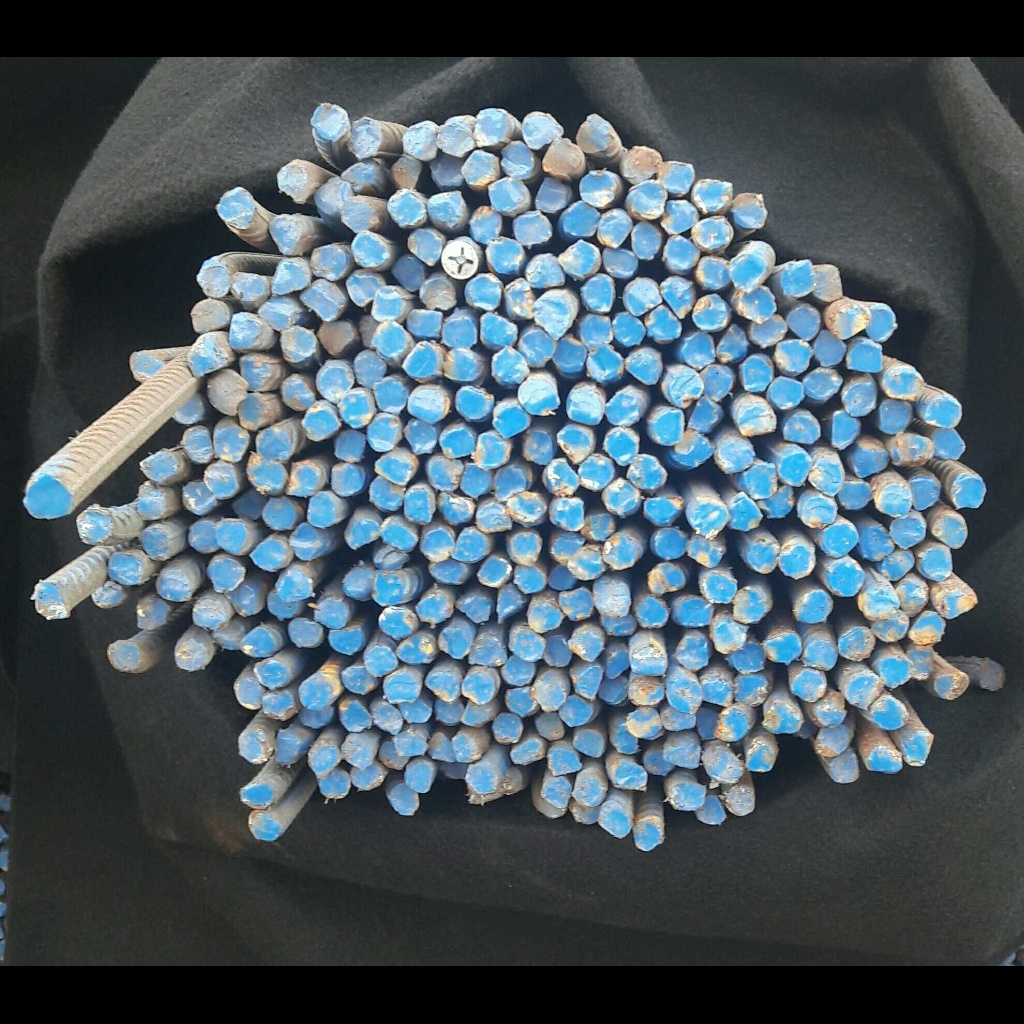dipstick: (24, 475, 71, 519), (207, 369, 249, 416), (301, 280, 347, 321), (663, 367, 704, 408), (316, 360, 354, 403), (216, 187, 255, 228), (664, 364, 702, 406), (189, 336, 228, 376), (623, 277, 662, 317), (533, 297, 574, 335), (212, 419, 249, 461), (542, 139, 584, 176), (247, 456, 286, 495), (522, 112, 561, 151), (490, 177, 530, 215), (829, 300, 869, 338), (271, 257, 310, 295), (575, 113, 613, 152), (692, 294, 731, 332), (518, 379, 559, 415), (603, 478, 641, 516), (316, 177, 353, 216), (290, 523, 329, 560), (427, 190, 464, 229), (557, 425, 594, 464), (622, 146, 661, 183), (75, 507, 115, 543), (631, 180, 667, 220), (408, 387, 449, 422), (403, 120, 438, 161), (388, 189, 426, 226), (239, 353, 277, 390), (461, 150, 499, 187), (500, 140, 537, 178), (579, 171, 617, 208), (542, 458, 579, 496), (577, 453, 614, 491), (628, 454, 665, 492), (626, 347, 664, 384), (137, 481, 173, 520), (489, 235, 525, 274), (524, 253, 565, 287), (341, 198, 383, 231), (456, 385, 493, 422), (437, 119, 474, 156), (730, 254, 767, 291), (311, 104, 349, 140), (351, 231, 389, 267), (822, 521, 860, 557), (848, 673, 884, 711), (310, 245, 349, 280), (140, 451, 184, 482), (693, 216, 733, 250), (884, 366, 924, 400), (348, 117, 381, 158), (936, 586, 977, 619), (467, 273, 503, 310), (597, 210, 633, 247), (693, 500, 730, 536), (644, 305, 681, 341), (689, 396, 725, 433), (827, 561, 864, 597), (228, 313, 263, 351), (205, 461, 240, 499), (35, 581, 70, 619), (586, 348, 624, 383), (352, 350, 386, 389), (581, 273, 615, 312), (736, 287, 775, 321), (259, 300, 303, 330), (563, 201, 599, 237), (408, 229, 443, 266), (474, 109, 509, 146), (593, 580, 630, 615), (282, 373, 316, 411), (437, 490, 475, 524), (480, 313, 518, 347), (560, 242, 598, 276), (237, 391, 270, 430), (687, 534, 726, 567), (749, 313, 788, 346), (155, 568, 195, 600), (859, 589, 900, 620), (662, 199, 698, 234), (931, 513, 967, 548), (520, 331, 554, 368), (781, 259, 815, 296), (813, 330, 847, 367), (846, 340, 883, 374), (775, 339, 812, 373), (277, 161, 310, 199), (276, 568, 314, 601), (508, 492, 546, 525), (604, 428, 637, 466), (695, 180, 733, 213), (701, 364, 734, 402), (128, 350, 167, 382), (738, 404, 777, 436), (783, 410, 822, 442), (792, 591, 831, 623), (763, 702, 803, 733), (183, 480, 218, 515), (428, 455, 463, 490), (403, 343, 438, 378), (475, 432, 510, 467), (567, 390, 602, 425), (812, 692, 847, 727), (280, 326, 316, 360), (256, 428, 292, 462), (372, 322, 406, 358), (238, 730, 274, 764), (494, 348, 528, 384), (191, 299, 228, 332), (469, 206, 502, 243), (630, 642, 667, 675), (852, 443, 889, 476), (183, 426, 215, 464), (648, 562, 686, 594), (788, 304, 820, 342), (799, 495, 837, 527), (815, 724, 853, 756), (513, 212, 552, 243), (370, 476, 405, 510), (392, 256, 426, 291), (664, 236, 699, 270), (926, 394, 961, 428), (667, 680, 703, 713), (602, 536, 638, 569), (711, 621, 747, 654), (613, 311, 646, 347), (733, 193, 766, 229), (716, 442, 752, 475), (340, 391, 372, 428), (318, 321, 355, 353), (107, 553, 144, 585), (250, 539, 287, 571), (346, 273, 383, 305), (577, 314, 614, 346), (730, 493, 762, 530), (838, 628, 875, 660), (920, 546, 952, 583), (444, 349, 482, 380), (894, 436, 932, 467), (271, 215, 301, 254), (866, 303, 895, 343), (331, 462, 365, 496), (374, 379, 408, 413), (660, 160, 694, 194), (232, 270, 267, 303), (209, 558, 244, 591), (367, 416, 400, 451), (442, 315, 477, 348), (682, 332, 715, 367), (877, 400, 912, 433), (745, 540, 780, 573), (303, 409, 339, 441), (299, 678, 335, 710), (439, 427, 475, 459), (373, 286, 405, 322), (629, 673, 665, 705), (665, 738, 701, 770), (745, 463, 777, 499), (339, 159, 380, 187), (192, 597, 229, 628), (493, 406, 530, 437), (811, 264, 842, 301), (734, 675, 771, 706), (872, 609, 909, 640), (877, 549, 914, 580), (627, 709, 665, 739), (397, 636, 436, 665), (506, 278, 535, 317), (803, 367, 842, 396), (730, 643, 769, 672), (263, 497, 297, 530), (421, 529, 455, 562), (740, 356, 773, 390), (859, 527, 893, 560), (910, 611, 944, 644), (174, 638, 209, 670), (342, 734, 377, 766), (404, 419, 436, 454), (408, 307, 443, 339), (718, 325, 750, 360), (420, 278, 456, 309), (493, 467, 529, 498), (707, 752, 743, 783), (871, 699, 907, 730), (375, 455, 413, 484), (140, 527, 173, 560), (216, 520, 249, 553), (370, 698, 403, 731), (478, 555, 511, 588), (933, 427, 966, 460), (388, 782, 420, 816), (454, 529, 488, 561), (550, 497, 582, 531), (604, 247, 638, 279), (780, 546, 814, 578), (735, 589, 767, 623), (570, 548, 605, 579), (675, 640, 710, 671), (652, 527, 687, 558), (702, 572, 737, 603), (766, 633, 801, 664), (890, 517, 925, 548), (471, 636, 507, 666), (833, 408, 860, 448), (791, 670, 827, 700), (646, 496, 684, 524), (107, 639, 140, 671), (372, 573, 404, 606), (554, 339, 587, 371), (635, 596, 668, 628), (607, 394, 640, 426), (698, 256, 730, 289), (843, 383, 875, 416), (878, 484, 911, 516), (897, 582, 930, 614), (953, 476, 986, 508), (267, 587, 301, 618), (560, 588, 594, 619), (840, 479, 874, 510), (910, 476, 941, 510), (384, 673, 420, 702), (632, 222, 660, 259), (199, 265, 231, 297), (334, 430, 366, 462), (573, 775, 605, 807), (772, 377, 804, 409), (778, 453, 810, 485), (288, 463, 319, 496), (255, 657, 288, 688), (234, 676, 265, 709), (523, 431, 554, 464), (136, 598, 170, 628), (241, 627, 275, 657), (346, 519, 380, 549), (715, 711, 749, 741), (500, 656, 535, 685), (699, 679, 735, 707), (189, 520, 220, 552), (316, 598, 348, 629), (404, 760, 435, 792), (509, 533, 541, 564), (560, 695, 592, 726), (426, 672, 459, 702), (462, 674, 495, 704), (552, 532, 585, 562), (570, 630, 603, 660), (653, 412, 683, 445), (805, 640, 838, 670), (248, 813, 282, 842), (904, 732, 933, 766), (308, 493, 336, 528), (670, 782, 705, 810), (342, 667, 378, 694), (405, 487, 432, 523), (475, 505, 512, 531), (675, 599, 712, 625), (468, 763, 499, 794), (344, 568, 374, 600), (438, 628, 470, 658), (459, 466, 491, 496), (380, 609, 413, 638), (365, 647, 398, 676), (506, 686, 539, 715), (542, 776, 571, 809), (614, 761, 647, 790), (288, 618, 322, 646), (383, 523, 417, 551), (350, 762, 384, 790), (867, 747, 902, 774), (456, 595, 492, 621), (309, 744, 340, 774), (341, 700, 371, 731), (573, 728, 604, 758), (830, 751, 860, 782), (512, 565, 545, 593), (574, 665, 602, 698), (510, 738, 545, 764), (240, 784, 276, 809), (493, 713, 523, 743), (600, 807, 630, 837), (379, 741, 410, 770), (530, 602, 561, 631), (543, 636, 572, 667), (633, 822, 664, 851), (880, 658, 911, 687), (512, 633, 545, 660), (613, 720, 640, 753), (936, 674, 970, 700), (329, 628, 364, 653), (535, 679, 564, 709), (697, 796, 727, 825), (726, 786, 755, 816), (747, 744, 778, 772), (417, 597, 450, 623), (548, 748, 581, 774), (320, 769, 349, 798), (644, 748, 675, 775), (906, 648, 933, 679), (394, 732, 428, 756), (429, 732, 456, 762), (434, 698, 464, 725), (536, 712, 565, 739), (400, 699, 432, 723), (453, 733, 480, 761), (978, 661, 1004, 690)
